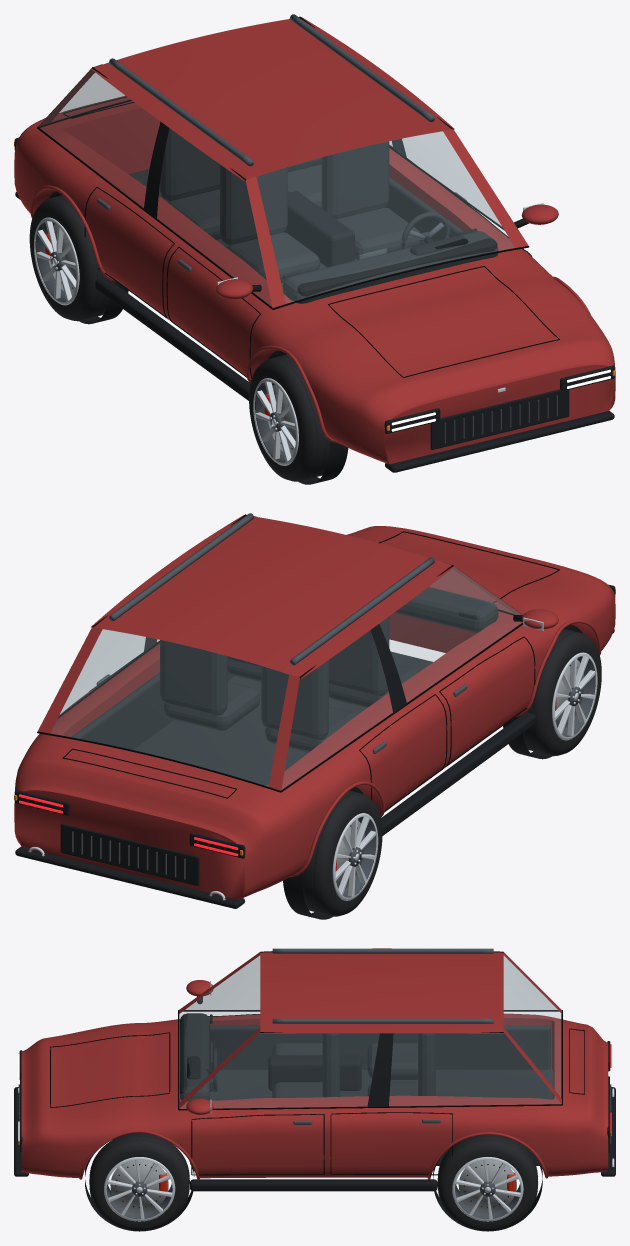
The model's file is alpine.glb.
3 renders of one model, top to bottom at view 1: azimuth 30°, elevation 25°; view 2: azimuth 150°, elevation 25°; view 3: azimuth 270°, elevation 25°, orthographic. The views are drawn at different scales.
Parts seen in each view (by area): view 1: Sculpted body shell.016, Painted roof.016, Windshield.016, Side glass.032, Interior dashboard.016, Interior seat back.055, Tire.066, Front grille housing.016, Tire.064, Interior seat back.054, Interior centre console.016, Side glass.033 (+26 smaller); view 2: Sculpted body shell.016, Painted roof.016, Rear glass.016, Side glass.032, Interior cabin floor.016, Tire.064, Interior seat back.057, Rear diffuser grille.016, Tire.066, Interior seat back.056, Interior door card.033, Rocker aero sill.032 (+28 smaller); view 3: Sculpted body shell.016, Side glass.033, Painted roof.016, Interior door card.032, Windshield.016, Interior cabin floor.016, Rear glass.016, Tire.067, Tire.065, Side glass.032, Rocker aero sill.033, Interior centre console.016 (+26 smaller).
Part boxes in pixels (<box>): Sculpted body shell.016: <box>14,95,615,464</box>; Painted roof.016: <box>99,19,445,177</box>; Windshield.016: <box>257,131,514,303</box>; Side glass.032: <box>39,70,271,306</box>; Interior dashboard.016: <box>283,231,498,303</box>; Interior seat back.055: <box>321,141,389,219</box>; Tire.066: <box>249,354,329,481</box>; Front grille housing.016: <box>430,389,569,449</box>; Tire.064: <box>29,195,109,320</box>; Interior seat back.054: <box>220,164,287,244</box>; Interior centre console.016: <box>283,191,354,267</box>; Side glass.033: <box>390,132,501,226</box>; Sculpted body shell.016: <box>14,526,615,899</box>; Painted roof.016: <box>100,516,446,675</box>; Rear glass.016: <box>51,629,288,785</box>; Side glass.032: <box>282,567,522,789</box>; Interior cabin floor.016: <box>133,651,433,785</box>; Tire.064: <box>302,790,382,916</box>; Interior seat back.057: <box>160,640,227,715</box>; Rear diffuser grille.016: <box>60,823,199,885</box>; Tire.066: <box>522,629,601,755</box>; Interior seat back.056: <box>261,660,328,740</box>; Interior door card.033: <box>71,672,233,749</box>; Rocker aero sill.032: <box>381,712,536,835</box>; Sculpted body shell.016: <box>21,1013,608,1178</box>; Side glass.033: <box>180,1033,560,1108</box>; Painted roof.016: <box>260,953,503,1032</box>; Interior door card.032: <box>210,1025,550,1069</box>; Windshield.016: <box>179,956,259,1102</box>; Interior cabin floor.016: <box>209,1069,553,1100</box>; Rear glass.016: <box>504,956,561,1096</box>; Tire.067: <box>89,1133,189,1231</box>; Tire.065: <box>437,1135,537,1231</box>; Side glass.032: <box>186,956,556,1009</box>; Rocker aero sill.033: <box>190,1179,437,1191</box>; Interior centre console.016: <box>268,1055,361,1090</box>.
Size of the model in its own units: 2.47 by 1.73 by 4.79.
